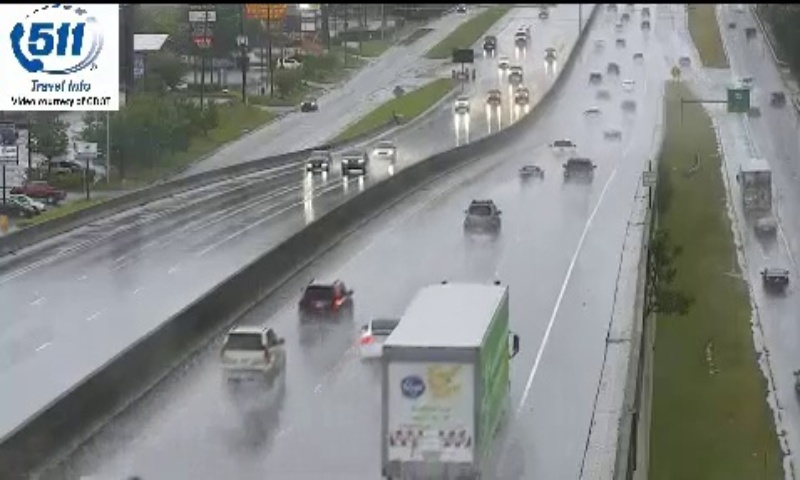car: (220, 325, 284, 377), (299, 280, 349, 325), (359, 320, 403, 358), (464, 201, 501, 235), (564, 158, 592, 184)
small-truck: (383, 283, 510, 478)
